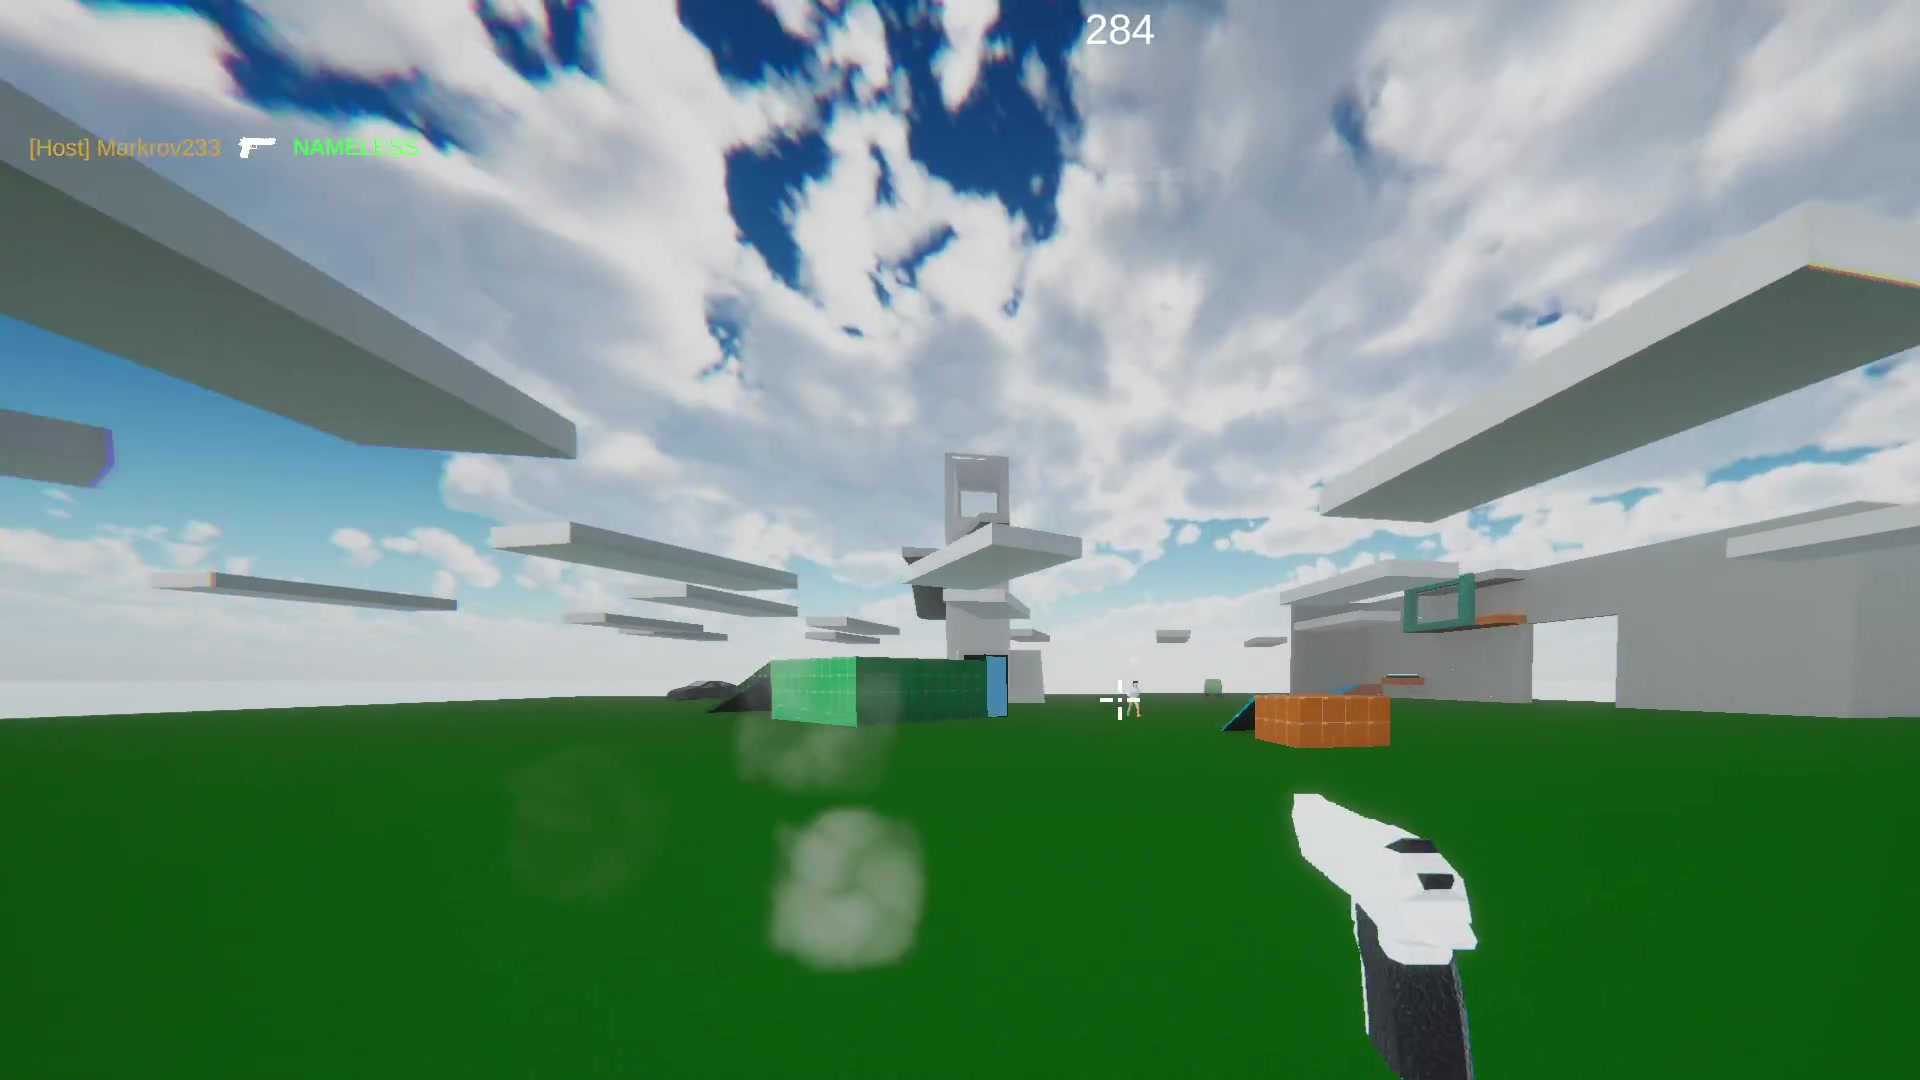human: (1130, 670, 1140, 714)
